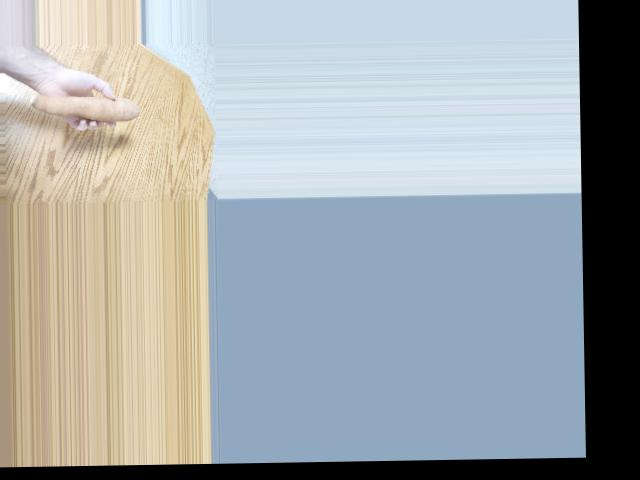sweet_potato: (33, 95, 144, 130)
